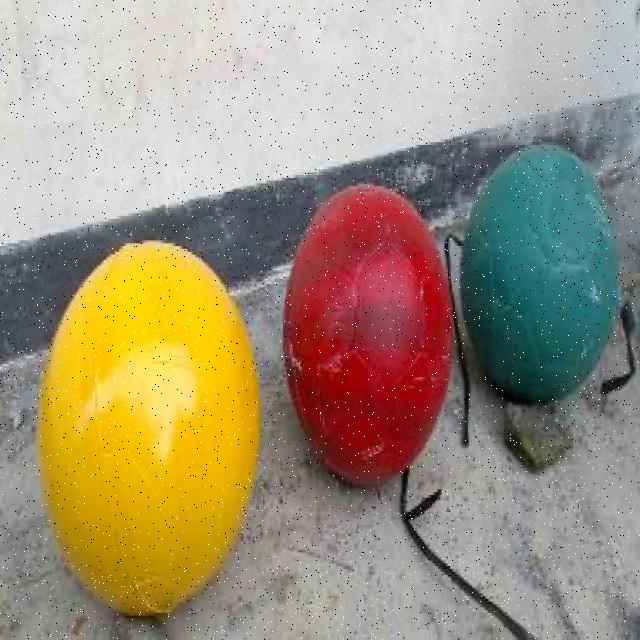buoy: (37, 237, 259, 616), (281, 181, 451, 486), (458, 142, 619, 406)
